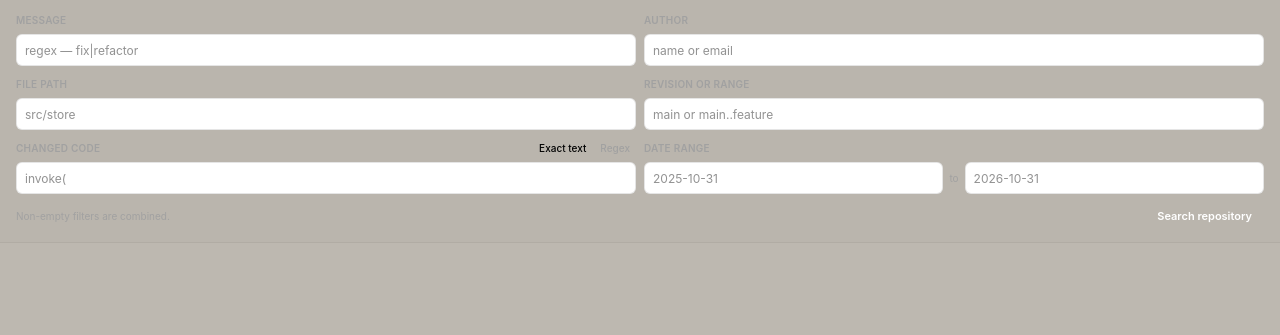
Scenario: AdvancedHistorySearch async isolation › clears the rendered results with Clear all
The width and height of the screenshot is (1280, 335).
Step 1. Type "fix" into the field with placeholder "regex — fix|refactor" → (326, 50), box [16,34,636,66]
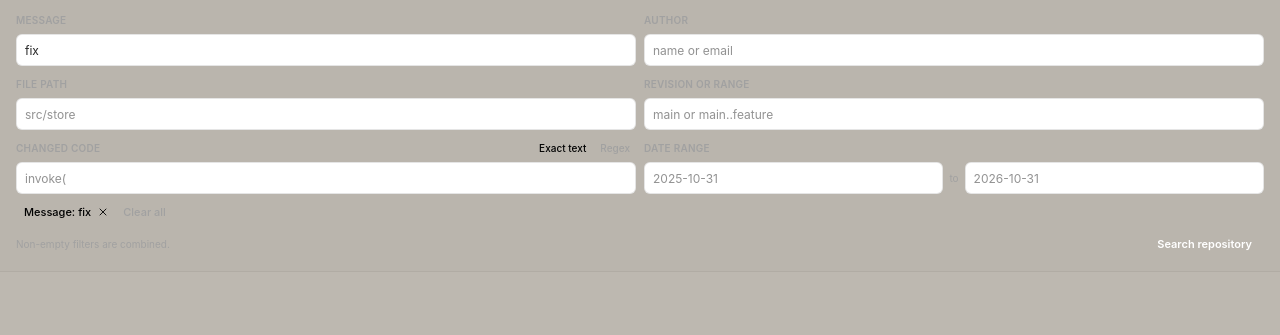
Step 2. Click the button "Search repository" → (1205, 244), box [1145,230,1264,258]
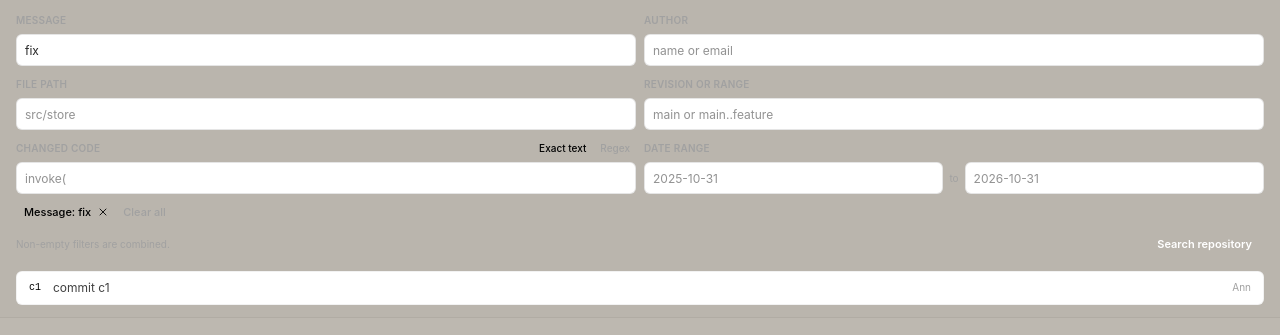
Check: the text "commit c1" is shown, box [53,280,110,294]
Step 3. Click the button "Clear all" → (145, 212), box [123,204,166,220]
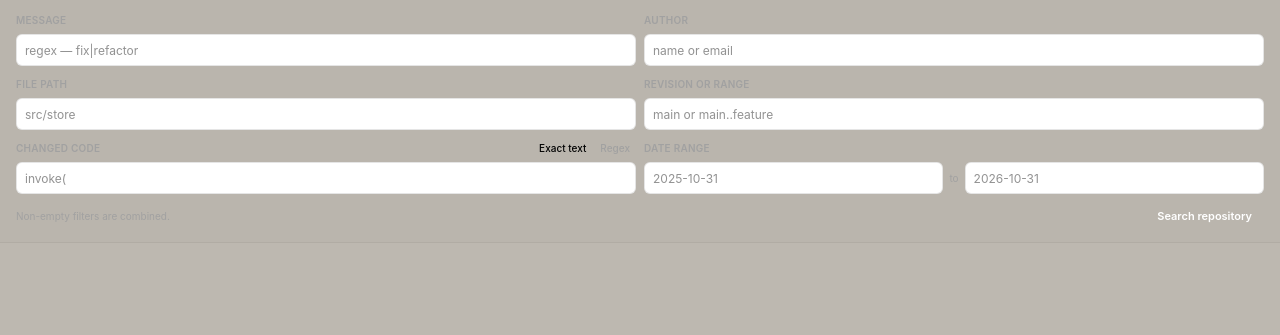
Check: the button "commit c1" is gone
